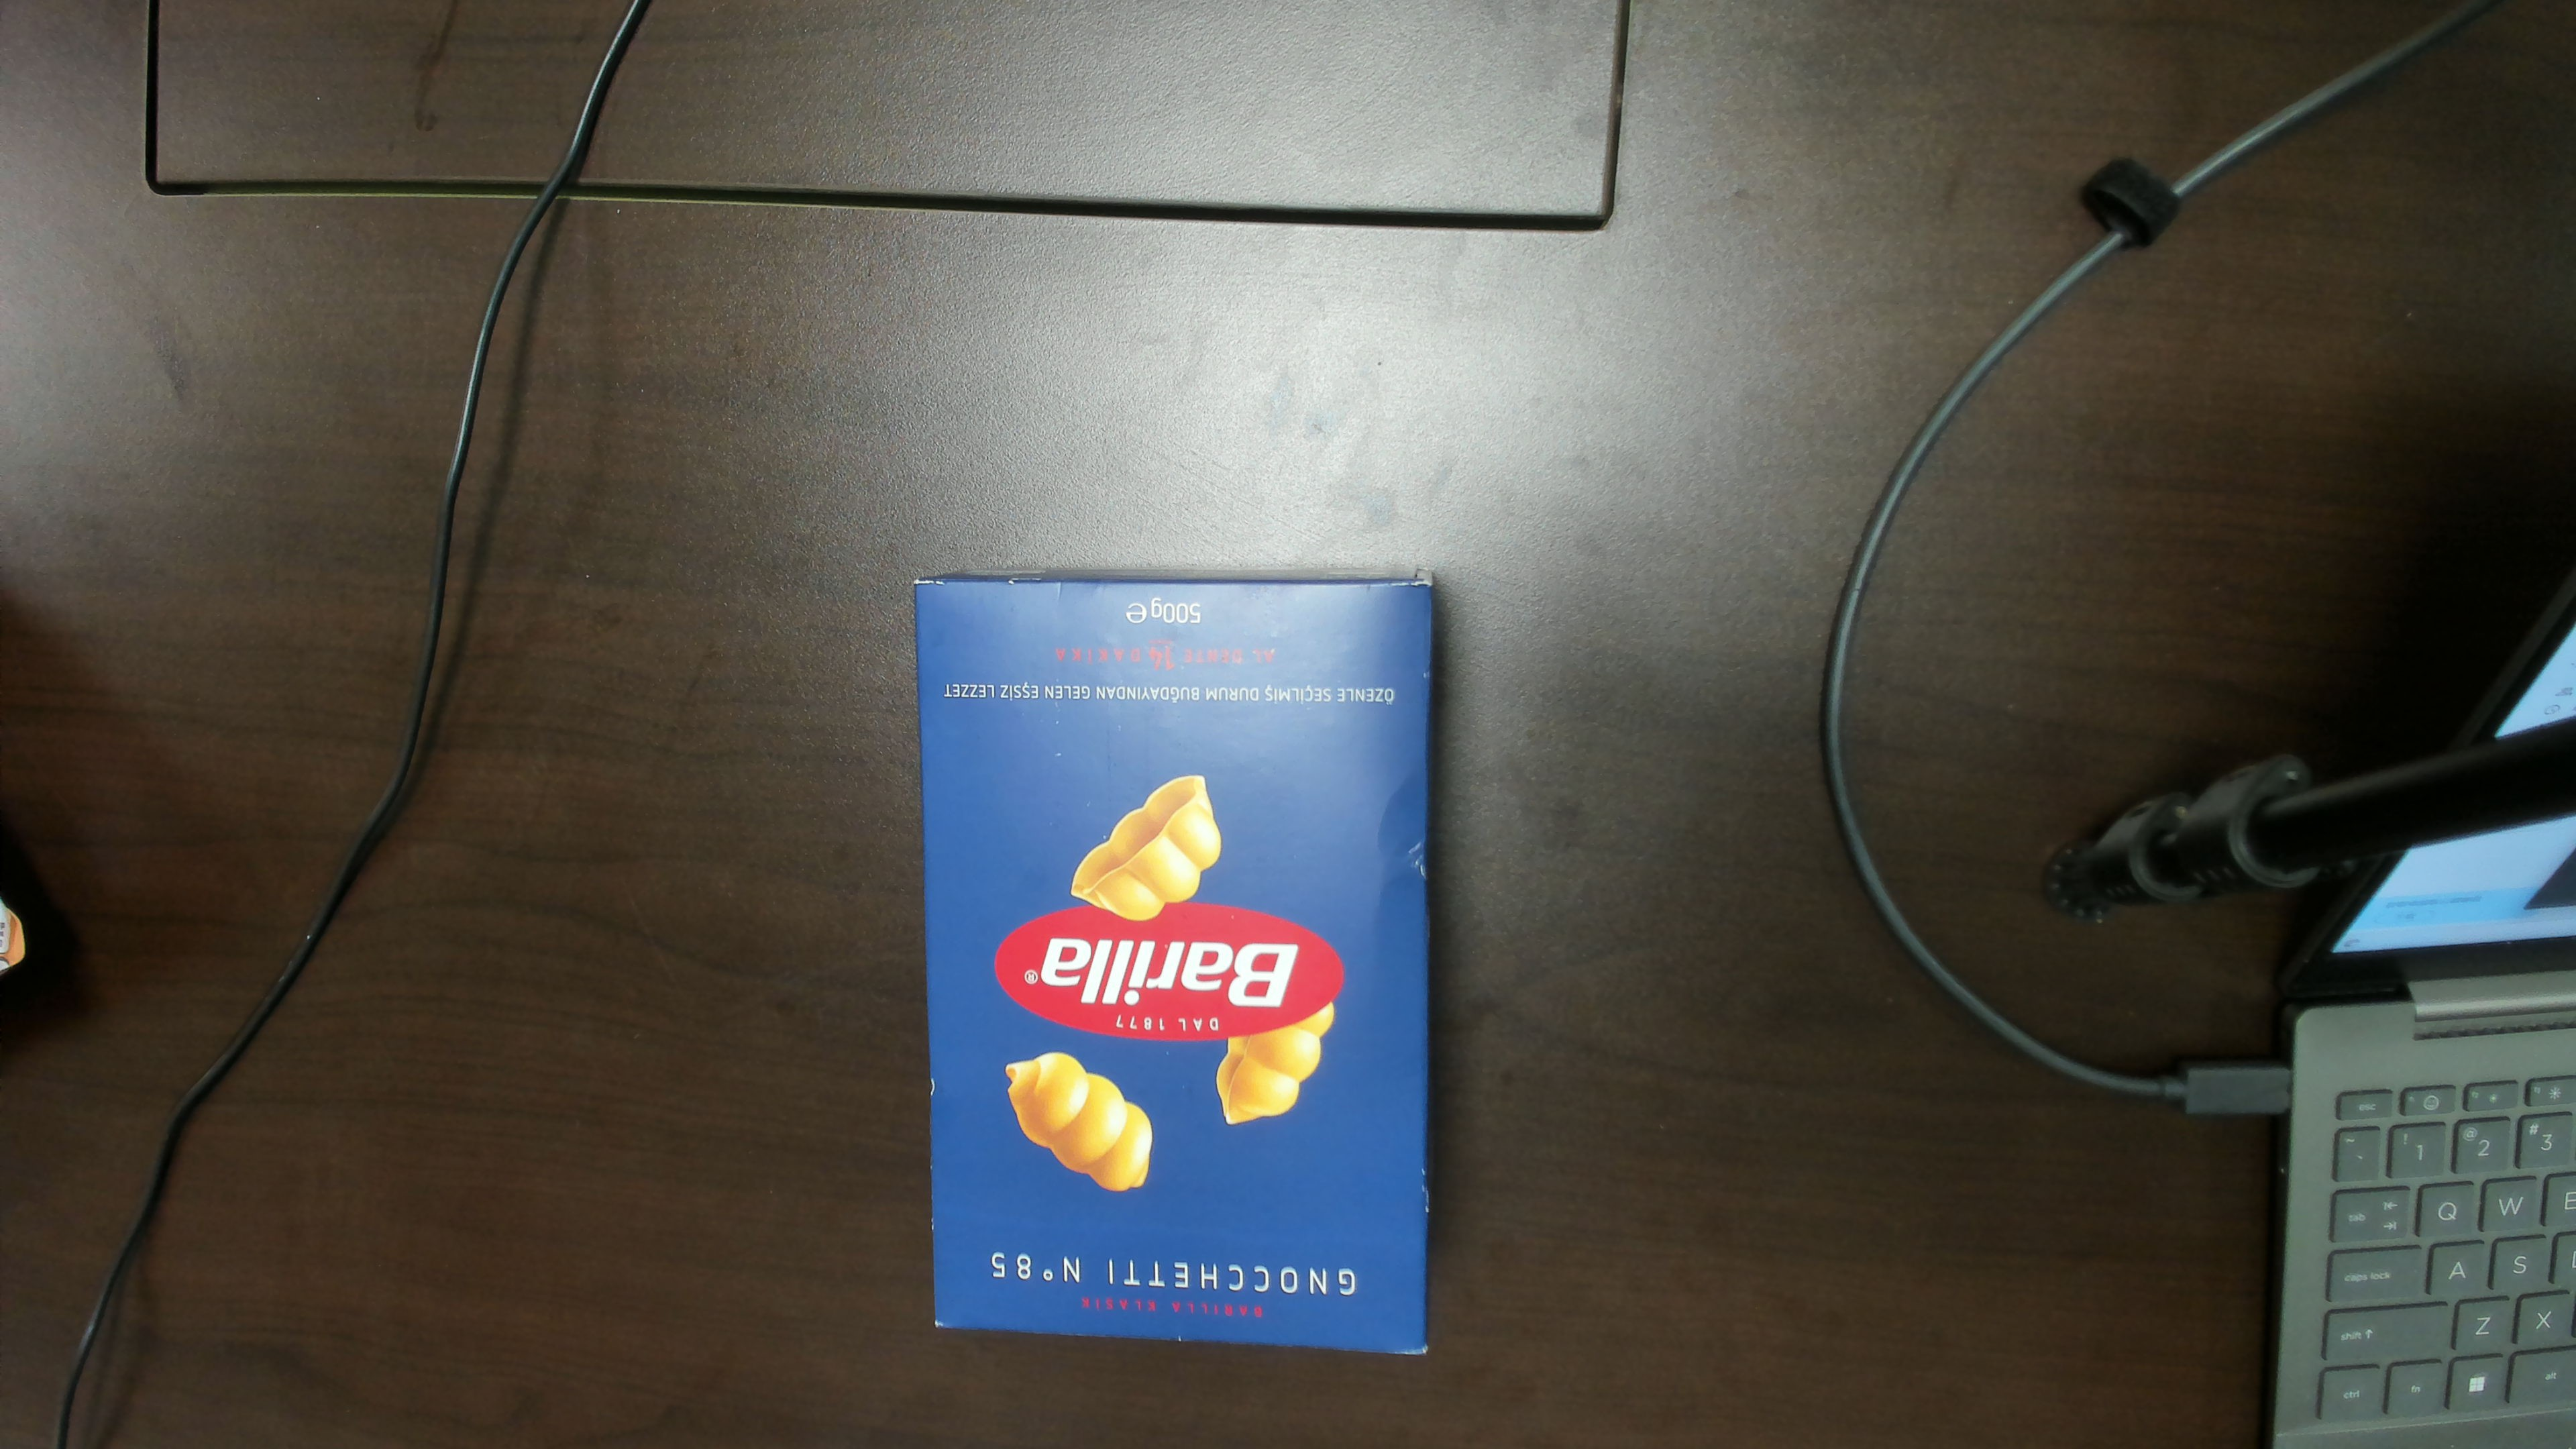Pasta_400-499g_Halal_NonHealthy: (931, 589, 1424, 1345)
